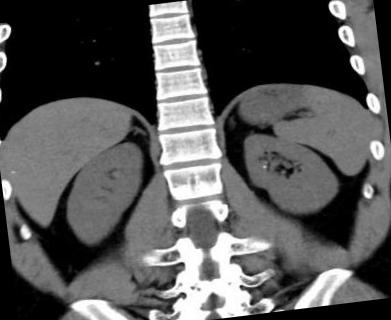Tas_Var: (260, 163, 267, 170), (262, 160, 270, 164)
